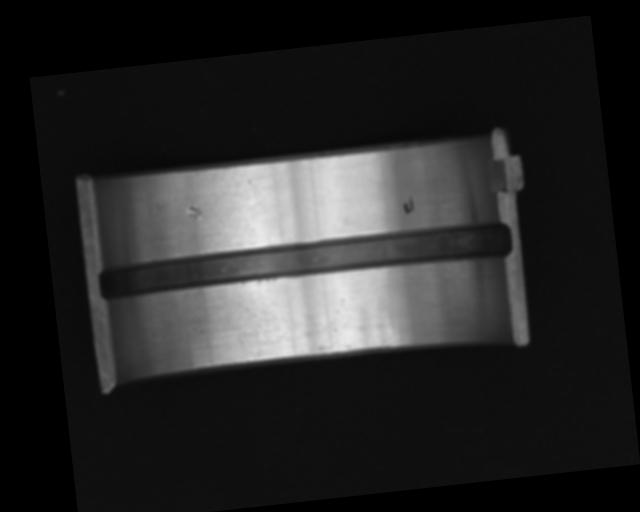blot: (402, 195, 415, 216)
bruise: (185, 201, 205, 221)
gap: (96, 217, 512, 302)
